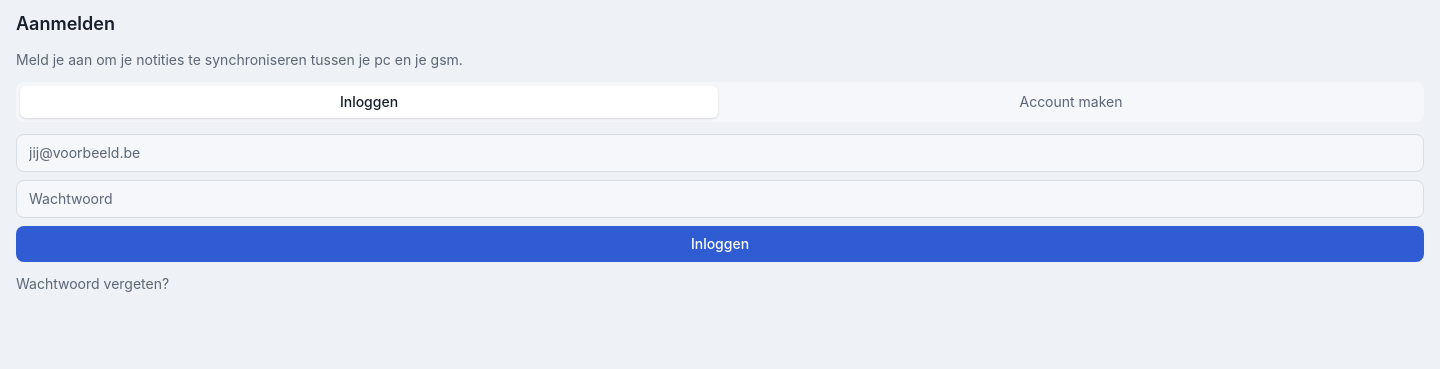
Test: Account › only offers passwords, with a link for a forgotten one
Step 1. Click the button "Wachtwoord vergeten?" → (93, 284), box [16, 274, 169, 294]
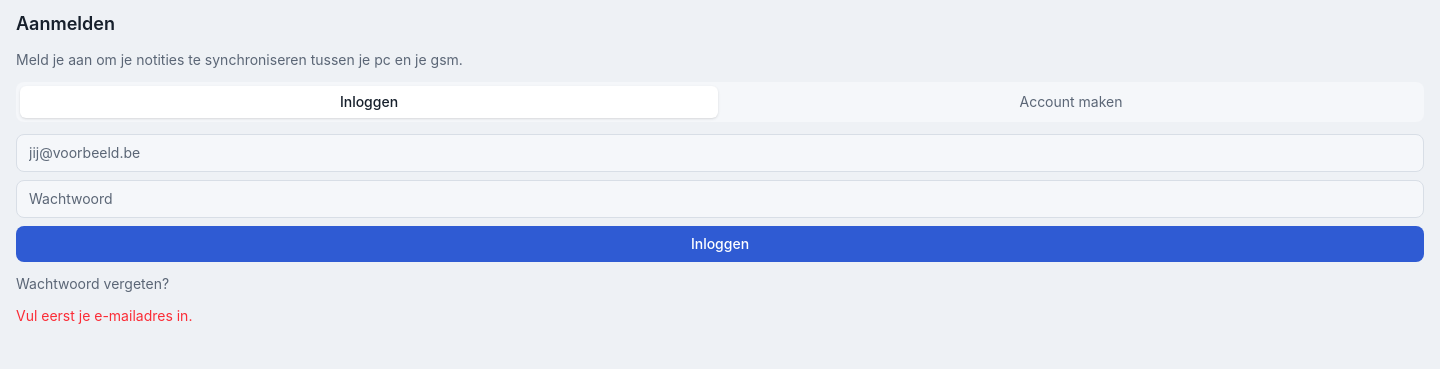
Result: the message shows "e-mailadres" at [16, 307, 192, 324]
Step 2. Type "ethan@voorbeeld.be" into the field named "E-mailadres" → (720, 153), box [16, 134, 1424, 172]
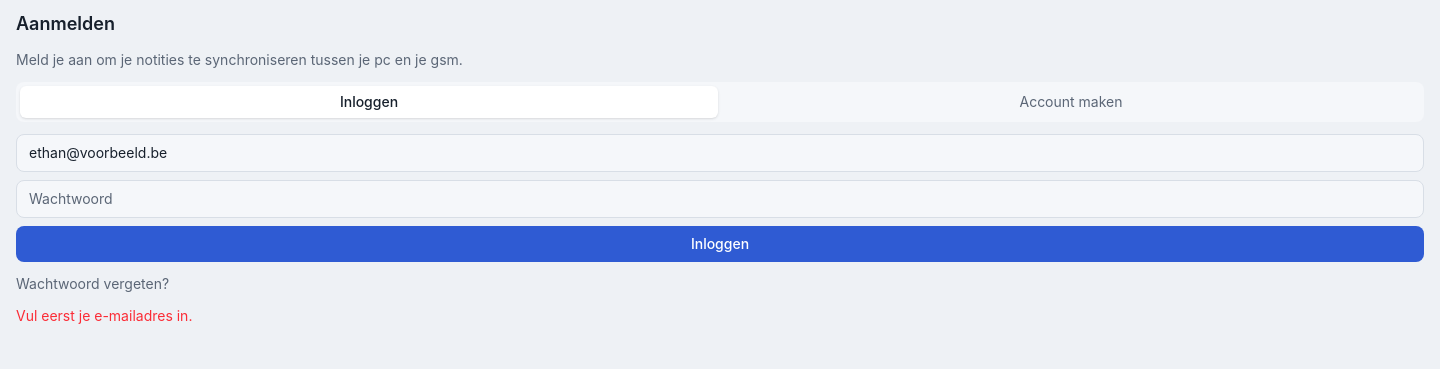
Step 3. Click the button "Wachtwoord vergeten?" → (93, 284), box [16, 274, 169, 294]
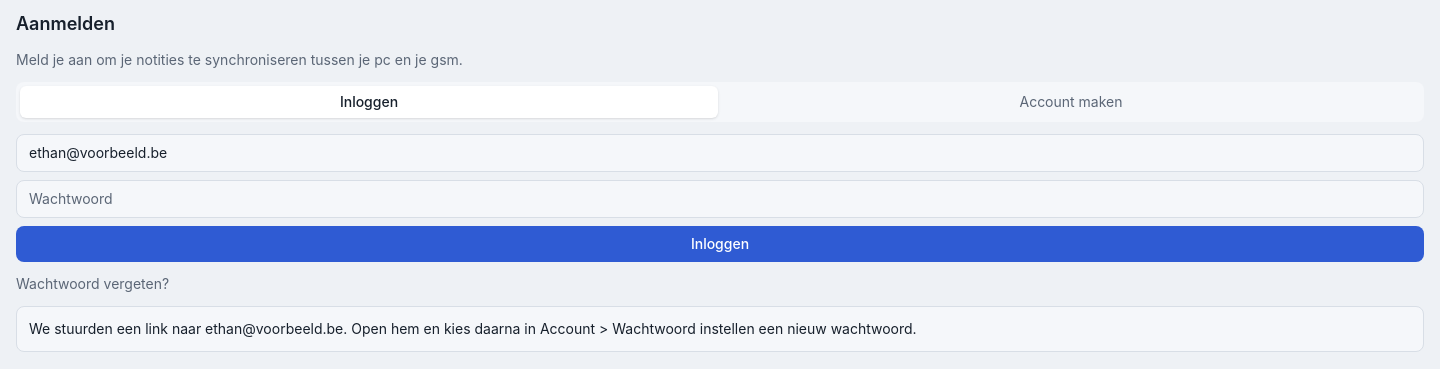
Result: the text "stuurden een link naar ethan@voorbeeld.be" is shown at [29, 320, 917, 337]
